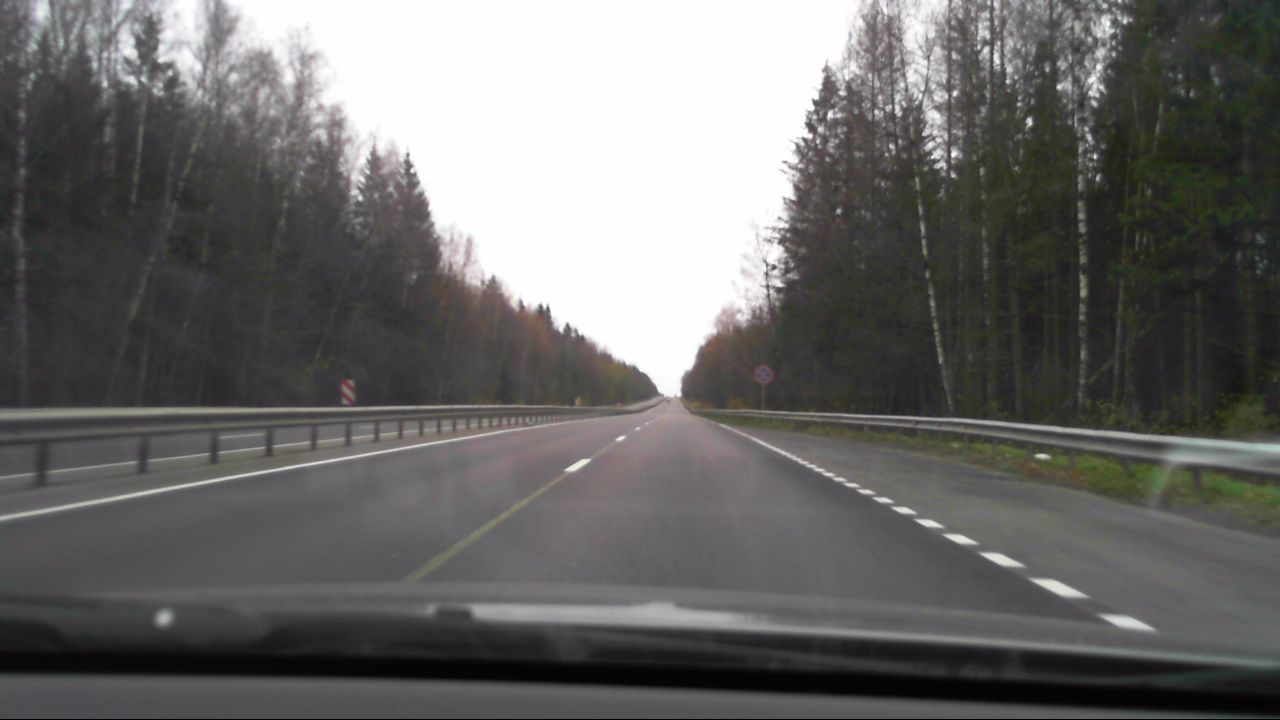No Parking: (753, 364, 772, 385)
